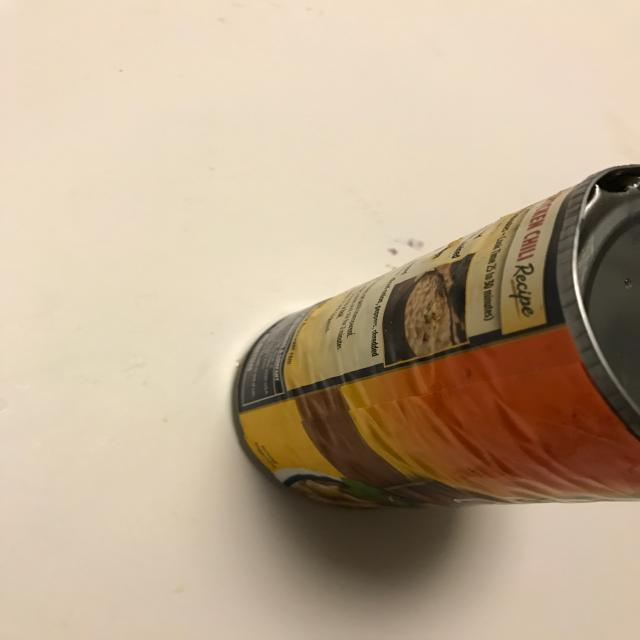metal: (231, 163, 638, 510)
